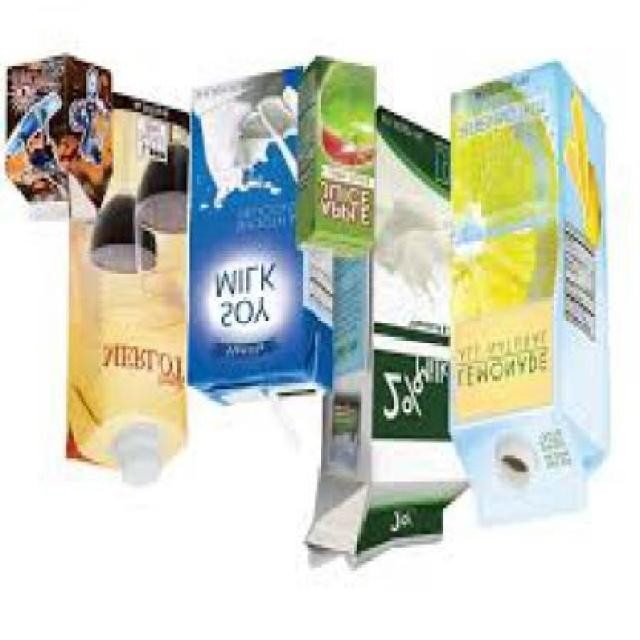CARDBOARD: (302, 109, 470, 574), (443, 63, 608, 531), (187, 66, 330, 409), (64, 96, 184, 484), (5, 56, 109, 221), (293, 60, 372, 257)
